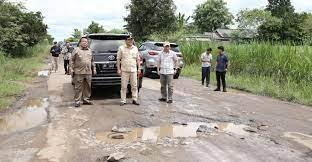Pothole: (99, 117, 303, 162), (0, 89, 59, 136), (26, 51, 52, 82)
